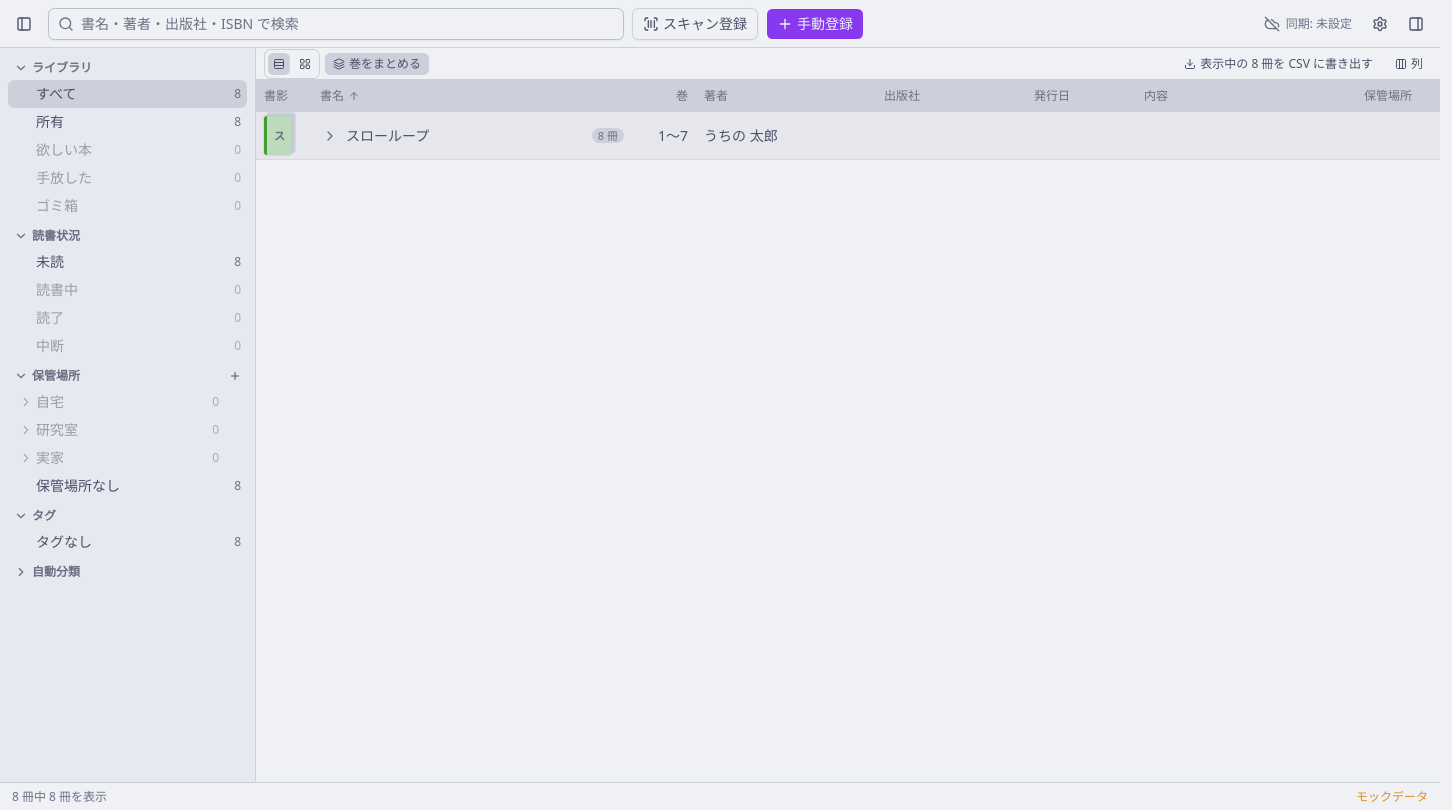
Test case: メイン画面: 作品の手動のまとめ・外し（AT-36・AT-37） › AT-37: 作品の中の 1 冊を「作品から外す」と、ふつうの行になり、選ばれる。「自動に戻す」で作品に戻る
Check: the row "ス スローループ 8 冊 1〜7 うちの 太郎 未読 2026-10-17" is shown, box [256,112,1440,160]
Check: the text "8 冊" is shown, box [592,128,624,143]
Click the button named "開く" next to "スローループ". click: (330, 136)
box: [320,126,340,146]
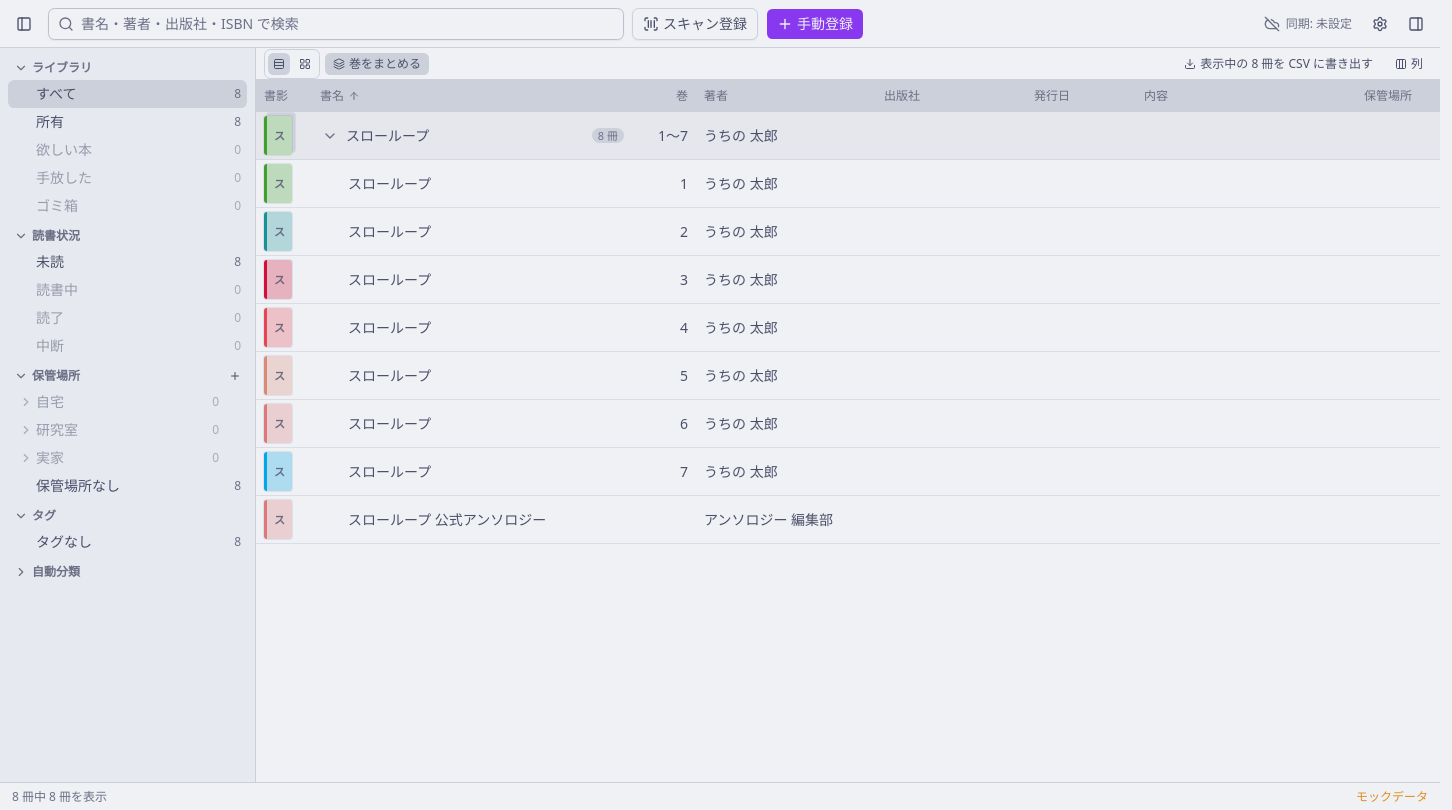
Click the row "ス スローループ 3 うちの 太郎 未読 2026-10-17". click: (848, 280)
box: [256,256,1440,304]
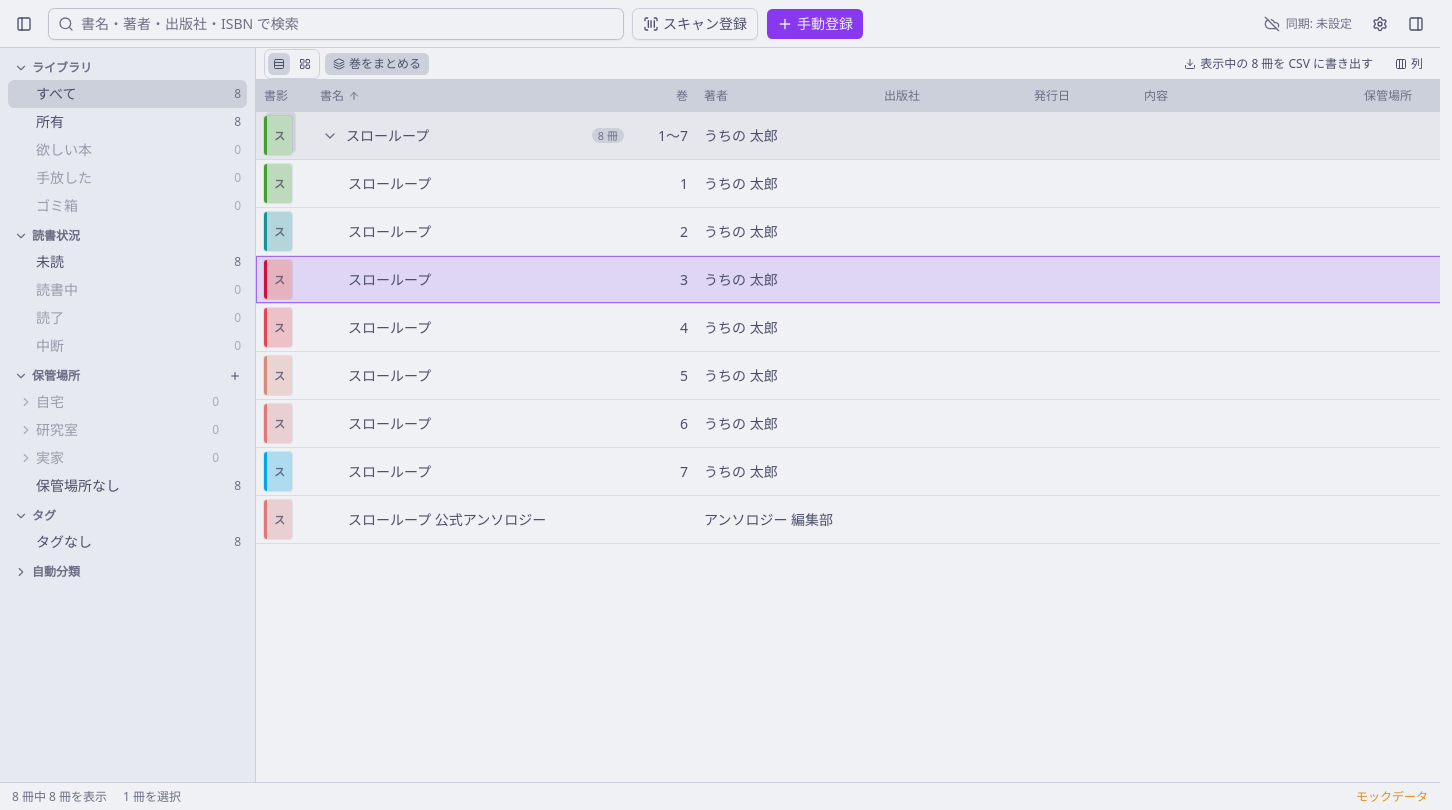
Right-click the row "ス スローループ 3 うちの 太郎 未読 2026-10-17" at (848, 280), box [256,256,1440,304]
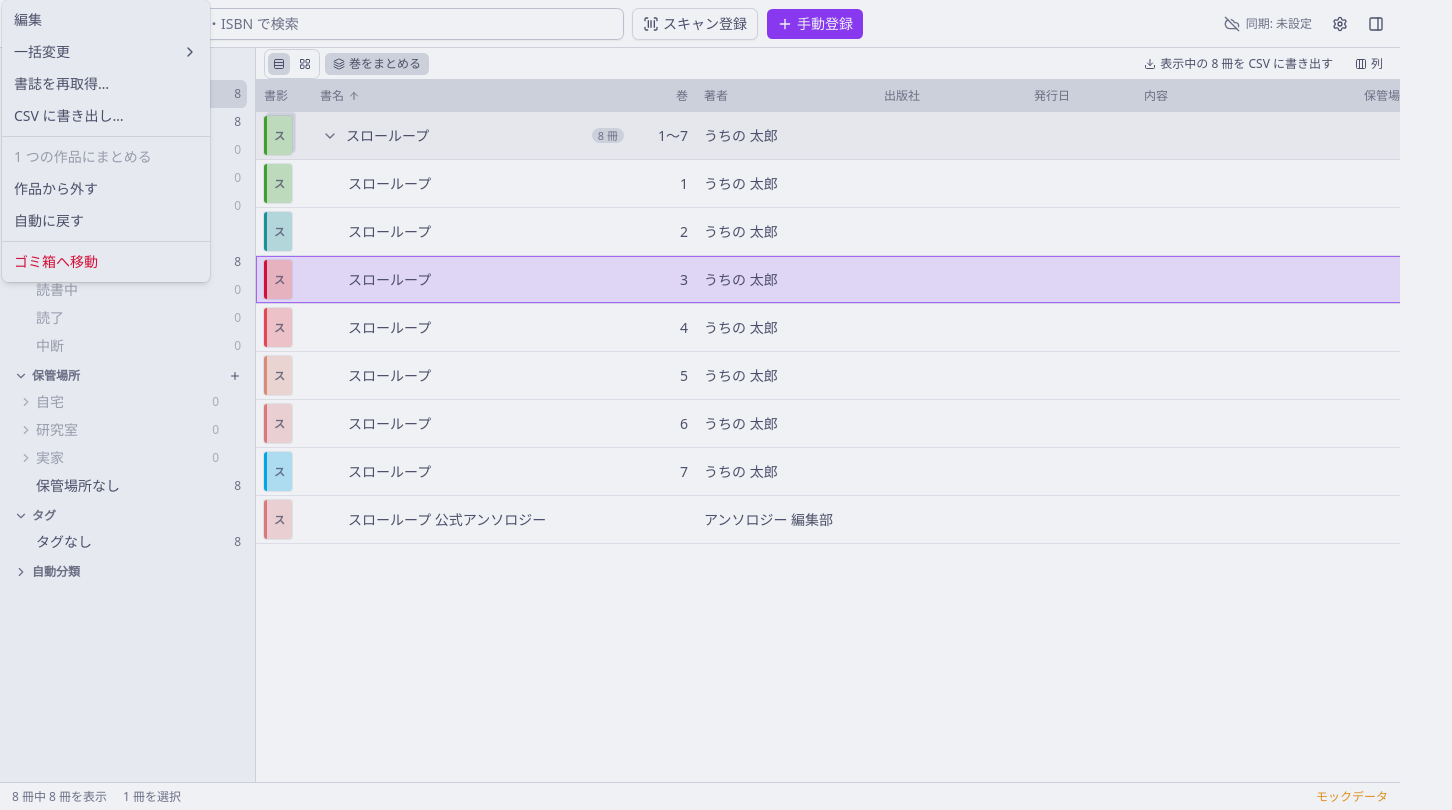
Click the menu item "作品から外す". click: (56, 188)
box: [14,179,98,198]
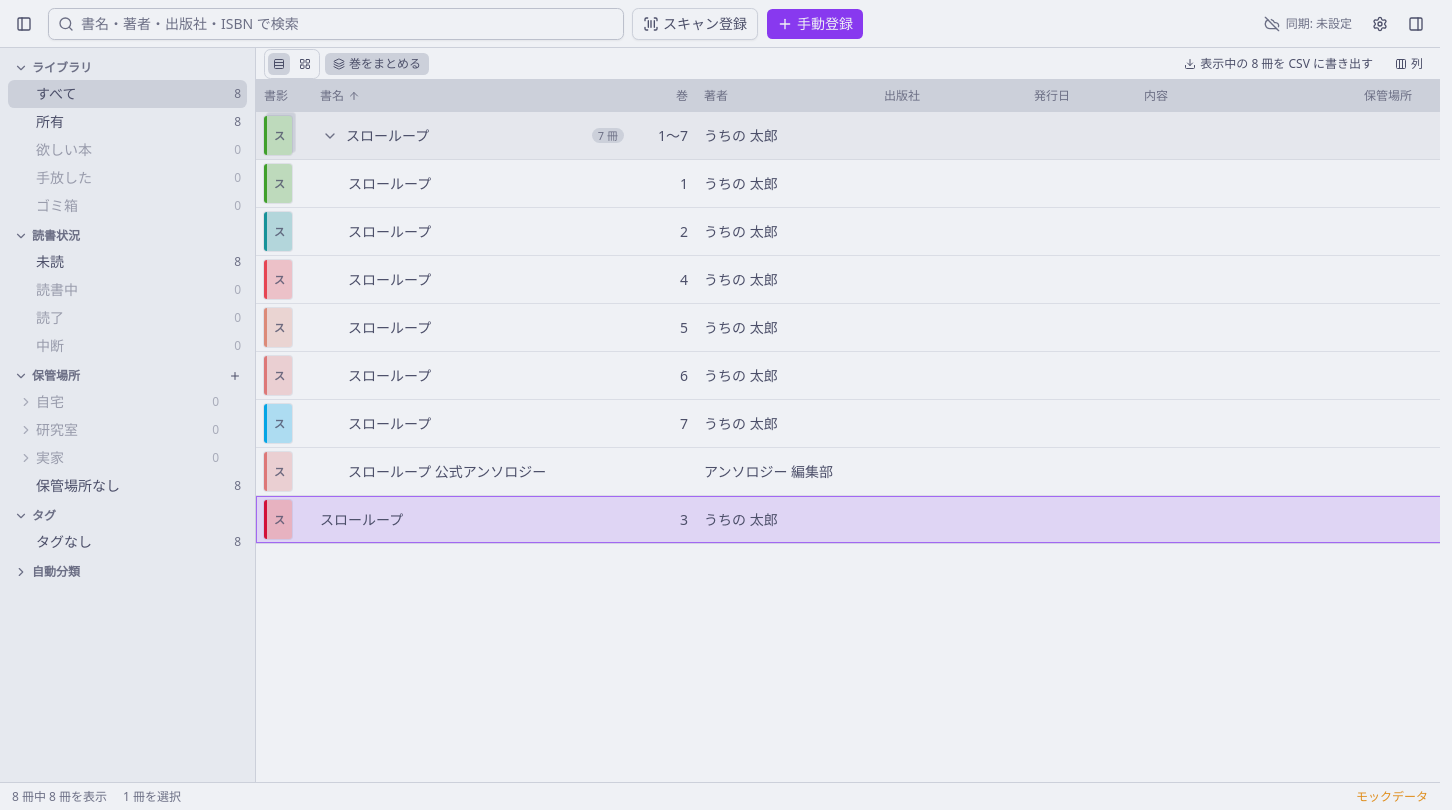
Check: the text "7 冊" is shown, box [592,128,624,143]
Right-click the row "ス スローループ 3 うちの 太郎 未読 2026-10-17" at (848, 520), box [256,496,1440,544]
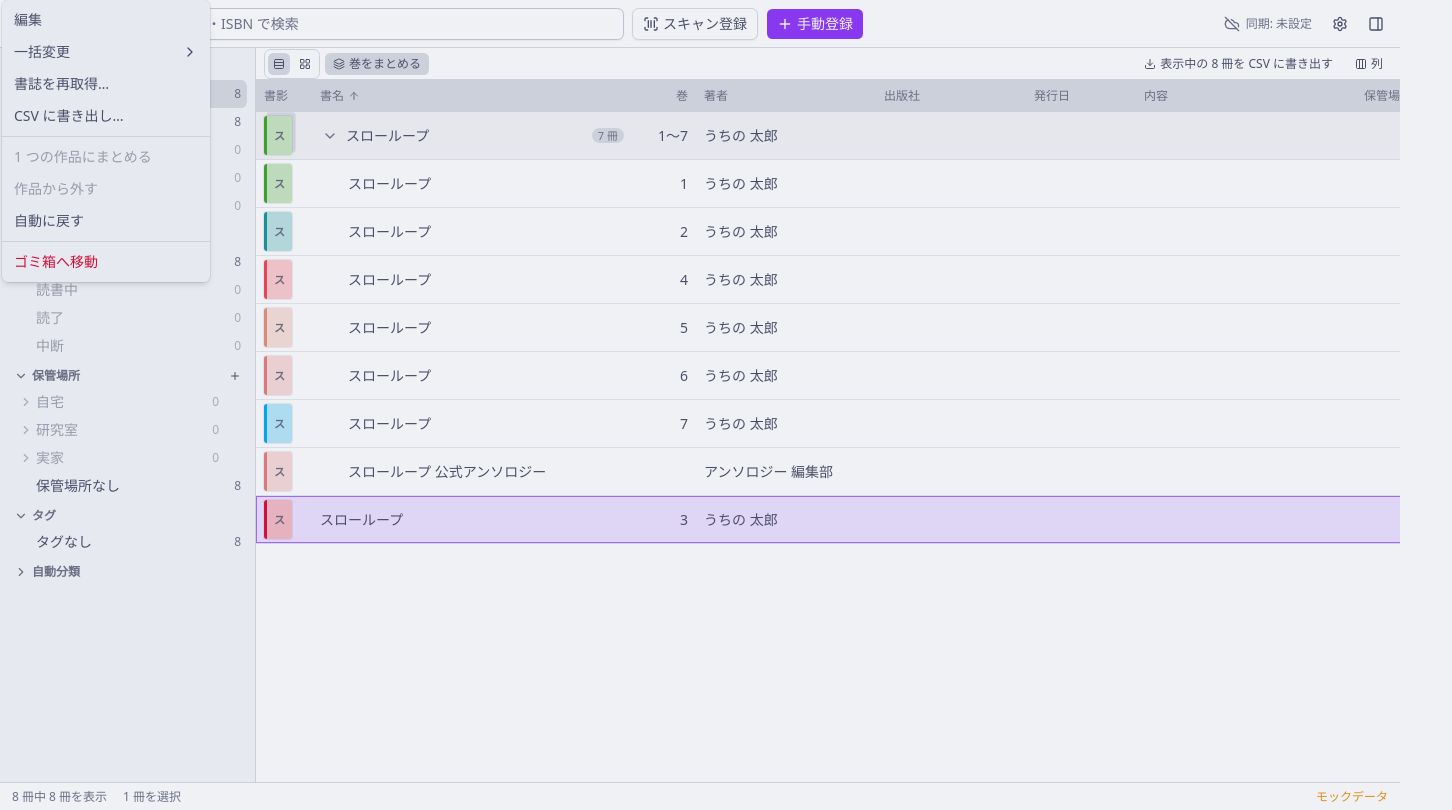
Check: the menu item "作品から外す" has attribute data-disabled, box [14,179,98,198]
Click the menu item "自動に戻す". click: (49, 220)
box: [14,211,84,230]
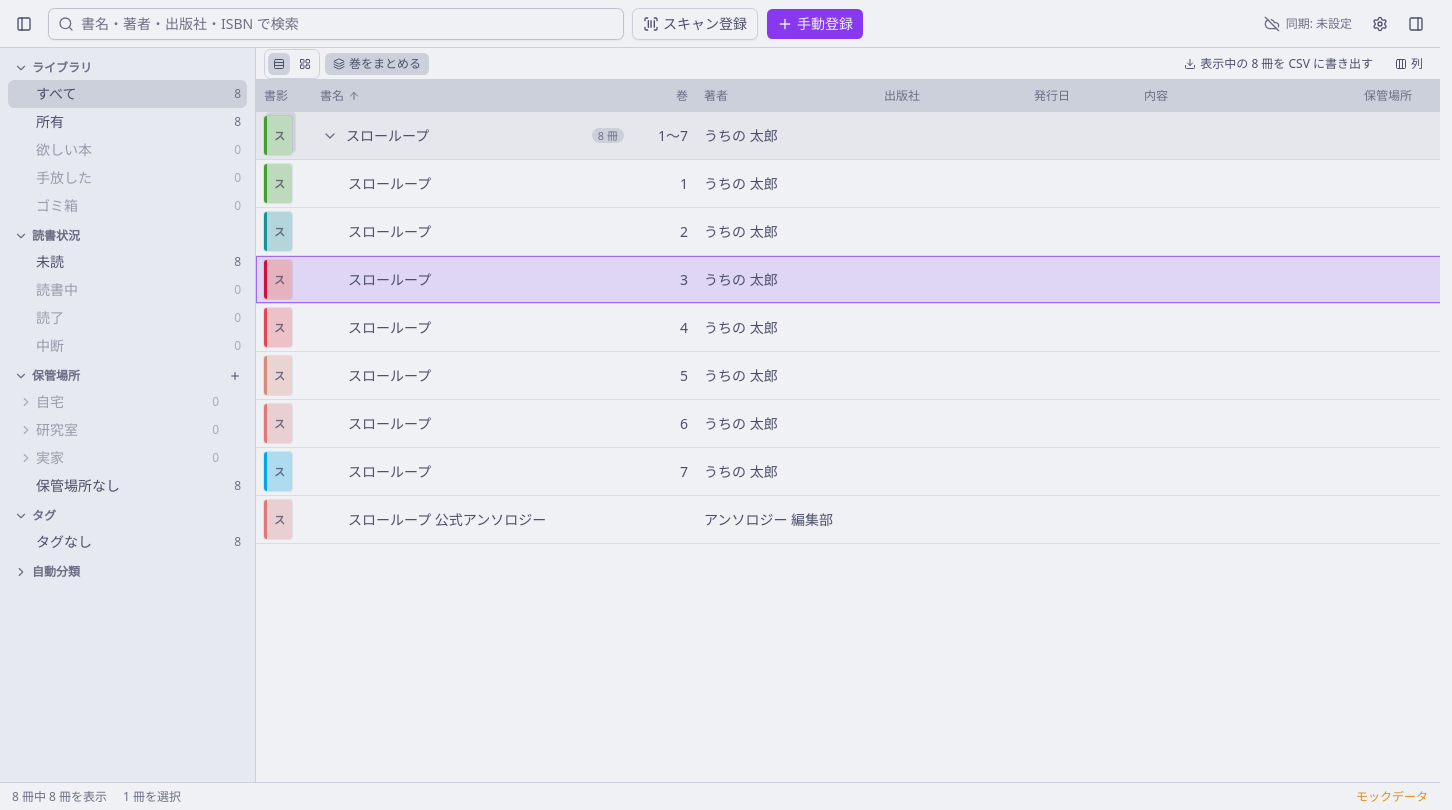
Check: the text "8 冊" is shown, box [592,128,624,143]
